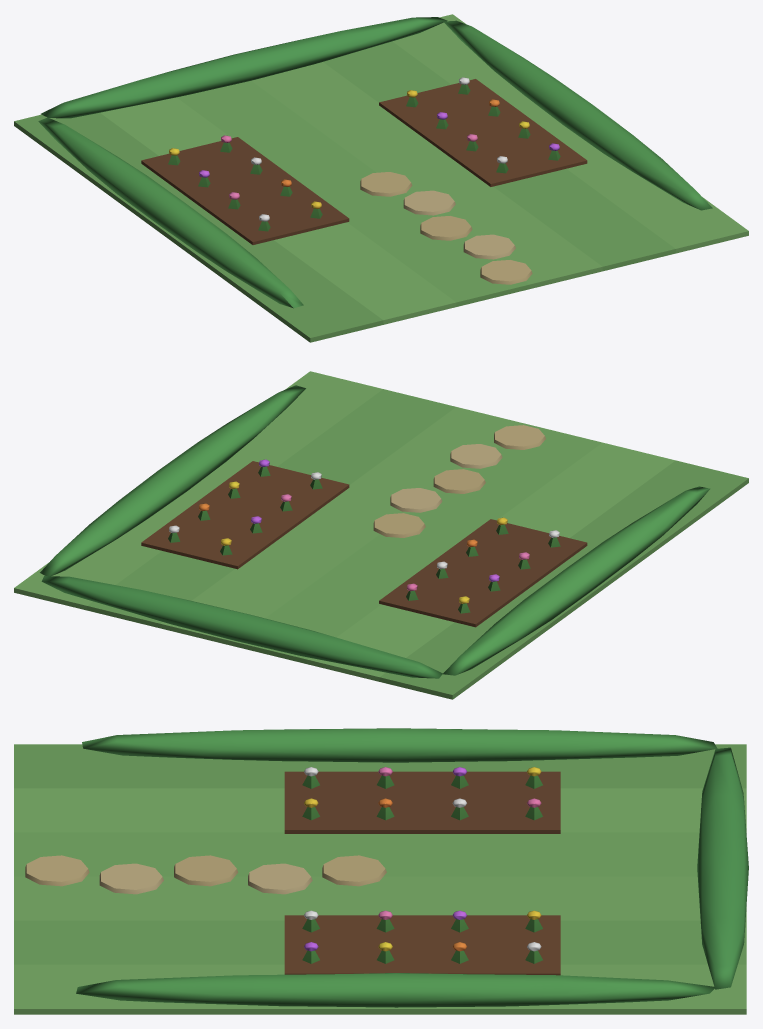
File: garden-plot.glb
The picture shows the model from 3 angles, top to bottom: view 1: azimuth 30°, elevation 25°; view 2: azimuth 150°, elevation 25°; view 3: azimuth 270°, elevation 25°; orthographic projection. The views are drawn at different scales.
Parts seen in each view (by area): view 1: garden-plot; view 2: garden-plot; view 3: garden-plot.
Boxes of the visible parts, x1,y1,x2,y2 form: garden-plot: [14, 14, 748, 342]; garden-plot: [14, 371, 748, 699]; garden-plot: [14, 728, 748, 1014].
Bounding box in the file's own units: 5.94 × 0.2943 × 6.92.
